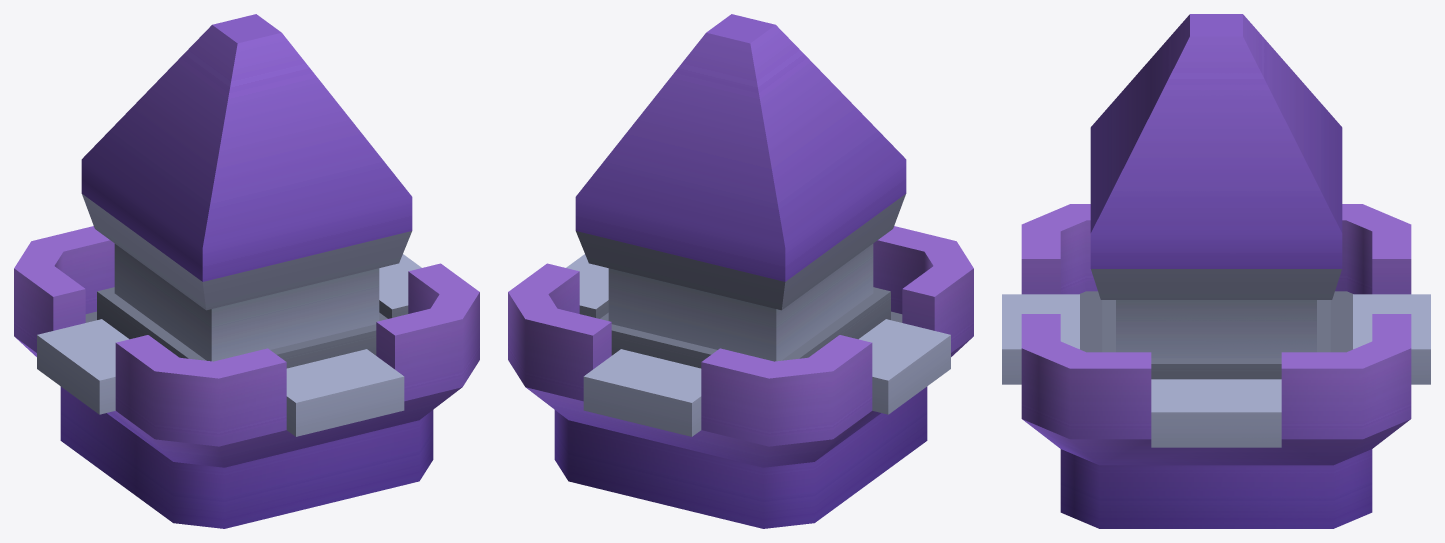
Rendered from kenney-tower-defense-tower-square-roof-b.glb.
The picture shows the model from 3 angles, left to right: view 1: azimuth 30°, elevation 25°; view 2: azimuth 150°, elevation 25°; view 3: azimuth 270°, elevation 25°; orthographic projection. The views are drawn at different scales.
Visible parts, largest first — view 1: tower-square-roof-b; view 2: tower-square-roof-b; view 3: tower-square-roof-b.
Part boxes in pixels (<box>): tower-square-roof-b: <box>14,14,479,528</box>; tower-square-roof-b: <box>508,14,973,528</box>; tower-square-roof-b: <box>1002,14,1430,528</box>.
Size of the model in its own units: 1.1 by 1.24 by 1.1.
1 material, 1 textured.
